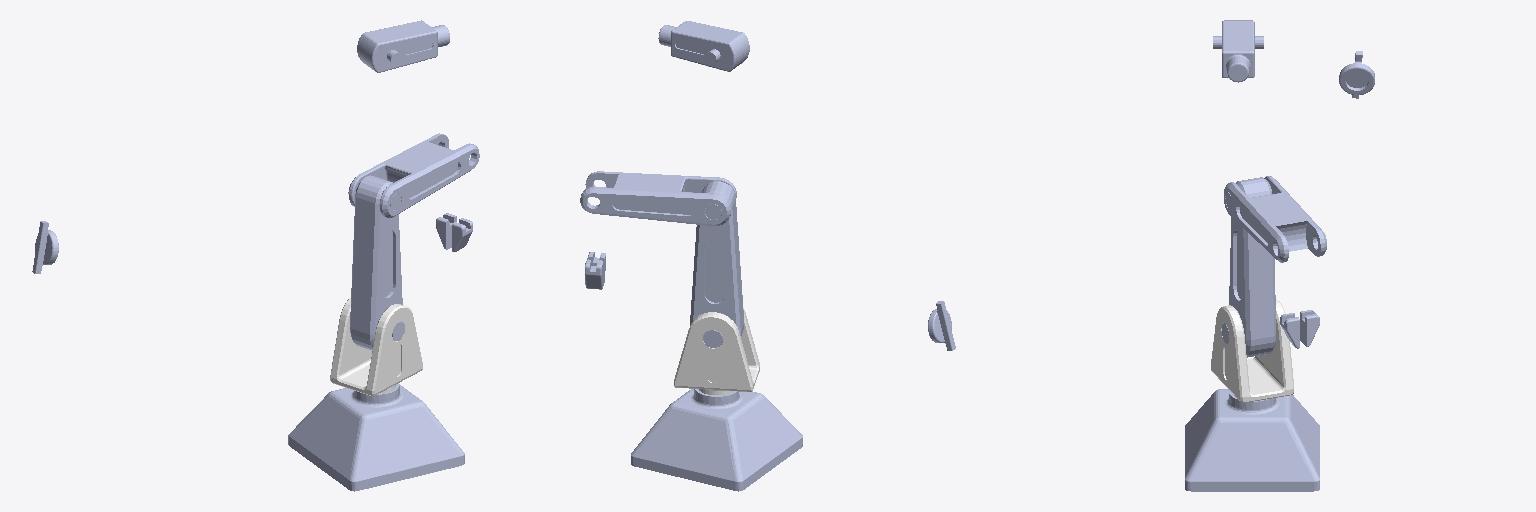
The robot description file, URDF, robot "robotic_arm":
<?xml version="1.0" encoding="utf-8"?>
<!-- This URDF was automatically created by SolidWorks to URDF Exporter! Originally created by [author] ([email redacted]) 
     Commit Version: 1.6.0-4-g7f85cfe  Build Version: 1.6.7995.38578
     For more information, please see http://wiki.ros.org/sw_urdf_exporter -->
<robot
  name="robotic_arm">
  <link
    name="base_link">
    <inertial>
      <origin
        xyz="-1.1102E-16 0 0.073876"
        rpy="0 0 0" />
      <mass
        value="17.147" />
      <inertia
        ixx="0.192"
        ixy="-4.9423E-10"
        ixz="-5.4429E-17"
        iyy="0.192"
        iyz="2.0103E-17"
        izz="0.29544" />
    </inertial>
    <visual>
      <origin
        xyz="0 0 0"
        rpy="0 0 0" />
      <geometry>
        <mesh
          filename="package://robotic_arm/meshes/base_link.STL" />
      </geometry>
      <material
        name="">
        <color
          rgba="0.79216 0.81961 0.93333 1" />
      </material>
    </visual>
    <collision>
      <origin
        xyz="0 0 0"
        rpy="0 0 0" />
      <geometry>
        <mesh
          filename="package://robotic_arm/meshes/base_link.STL" />
      </geometry>
    </collision>
  </link>
  <link
    name="link1">
    <inertial>
      <origin
        xyz="-5.65270052987898E-12 -0.094533892766691 7.88580312161002E-11"
        rpy="0 0 0" />
      <mass
        value="3.09046329461168" />
      <inertia
        ixx="0.0262980576865812"
        ixy="-4.70225488404403E-13"
        ixz="5.78426964247605E-05"
        iyy="0.0196320103484557"
        iyz="7.43867953096951E-12"
        izz="0.0253915865728046" />
    </inertial>
    <visual>
      <origin
        xyz="0 0 0"
        rpy="0 0 0" />
      <geometry>
        <mesh
          filename="package://robotic_arm/meshes/link1.STL" />
      </geometry>
      <material
        name="">
        <color
          rgba="1 1 1 1" />
      </material>
    </visual>
    <collision>
      <origin
        xyz="0 0 0"
        rpy="0 0 0" />
      <geometry>
        <mesh
          filename="package://robotic_arm/meshes/link1.STL" />
      </geometry>
    </collision>
  </link>
  <joint
    name="link1_revolute"
    type="revolute">
    <origin
      xyz="0 0 0.405"
      rpy="1.5707963267949 0 -2.76394490191366" />
    <parent
      link="base_link" />
    <child
      link="link1" />
    <axis
      xyz="0 1 0" />
    <limit
      lower="0"
      upper="3.142"
      effort="0"
      velocity="0" />
  </joint>
  <link
    name="link2">
    <inertial>
      <origin
        xyz="5.55111512312578E-16 0.167517809032193 -4.44089209850063E-16"
        rpy="0 0 0" />
      <mass
        value="5.58667658903741" />
      <inertia
        ixx="0.126335373950319"
        ixy="-2.25047998865248E-18"
        ixz="-0.000176634600159667"
        iyy="0.0114008236557685"
        iyz="-3.20896236448742E-17"
        izz="0.129103470333829" />
    </inertial>
    <visual>
      <origin
        xyz="0 0 0"
        rpy="0 0 0" />
      <geometry>
        <mesh
          filename="package://robotic_arm/meshes/link2.STL" />
      </geometry>
      <material
        name="">
        <color
          rgba="0.792156862745098 0.819607843137255 0.933333333333333 1" />
      </material>
    </visual>
    <collision>
      <origin
        xyz="0 0 0"
        rpy="0 0 0" />
      <geometry>
        <mesh
          filename="package://robotic_arm/meshes/link2.STL" />
      </geometry>
    </collision>
  </link>
  <joint
    name="link2_revolute"
    type="revolute">
    <origin
      xyz="0 0 0"
      rpy="0 0 0" />
    <parent
      link="link1" />
    <child
      link="link2" />
    <axis
      xyz="0.0634251661005122 0 -0.997986597257259" />
    <limit
      lower="-1.57"
      upper="1.57"
      effort="0"
      velocity="0" />
  </joint>
  <link
    name="link3">
    <inertial>
      <origin
        xyz="0.174395473981125 0.0384516706727349 0.0111232348782355"
        rpy="0 0 0" />
      <mass
        value="2.82619520285645" />
      <inertia
        ixx="0.00844864895794914"
        ixy="-0.00442959527109717"
        ixz="-0.00106465357356354"
        iyy="0.0275749332622264"
        iyz="-0.000278835988235278"
        izz="0.0250601393266879" />
    </inertial>
    <visual>
      <origin
        xyz="0 0 0"
        rpy="0 0 0" />
      <geometry>
        <mesh
          filename="package://robotic_arm/meshes/link3.STL" />
      </geometry>
      <material
        name="">
        <color
          rgba="0.792156862745098 0.819607843137255 0.933333333333333 1" />
      </material>
    </visual>
    <collision>
      <origin
        xyz="0 0 0"
        rpy="0 0 0" />
      <geometry>
        <mesh
          filename="package://robotic_arm/meshes/link3.STL" />
      </geometry>
    </collision>
  </link>
  <joint
    name="link3_revolute"
    type="revolute">
    <origin
      xyz="0 0.4 0"
      rpy="0 0 -0.0169636090218563" />
    <parent
      link="link2" />
    <child
      link="link3" />
    <axis
      xyz="0.0634160405786047 0.00107586811877688 -0.99798659725726" />
    <limit
      lower="0"
      upper="3.142"
      effort="0"
      velocity="0" />
  </joint>
  <link
    name="link4">
    <inertial>
      <origin
        xyz="-0.0118858896349915 -0.0506456824953578 -0.0697406192943522"
        rpy="0 0 0" />
      <mass
        value="1.80974470730009" />
      <inertia
        ixx="0.00932958069415946"
        ixy="0.0013494372798654"
        ixz="1.98874384850704E-05"
        iyy="0.00259829198759458"
        iyz="-0.000438489662118864"
        izz="0.00938432134538898" />
    </inertial>
    <visual>
      <origin
        xyz="0 0 0"
        rpy="0 0 0" />
      <geometry>
        <mesh
          filename="package://robotic_arm/meshes/link4.STL" />
      </geometry>
      <material
        name="">
        <color
          rgba="0.792156862745098 0.819607843137255 0.933333333333333 1" />
      </material>
    </visual>
    <collision>
      <origin
        xyz="0 0 0"
        rpy="0 0 0" />
      <geometry>
        <mesh
          filename="package://robotic_arm/meshes/link4.STL" />
      </geometry>
    </collision>
  </link>
  <joint
    name="link4_revolute"
    type="revolute">
    <origin
      xyz="0.33669051723305 0.075138823425112 0.0916168806467064"
      rpy="0 -0.37764775167464 0.0169636090218595" />
    <parent
      link="link3" />
    <child
      link="link4" />
    <axis
      xyz="-0.309036699346333 0 -0.95105011353615" />
    <limit
      lower="0"
      upper="-3.142"
      effort="0"
      velocity="0" />
  </joint>
  <link
    name="link5">
    <inertial>
      <origin
        xyz="-0.000635733956954793 -0.000212077273990863 0.02344654214119"
        rpy="0 0 0" />
      <mass
        value="0.190534243496226" />
      <inertia
        ixx="0.00021723232799195"
        ixy="3.2960030899886E-05"
        ixz="-1.99933248330466E-06"
        iyy="0.000129424517463001"
        iyz="-6.66965312608118E-07"
        izz="0.000301904828698227" />
    </inertial>
    <visual>
      <origin
        xyz="0 0 0"
        rpy="0 0 0" />
      <geometry>
        <mesh
          filename="package://robotic_arm/meshes/link5.STL" />
      </geometry>
      <material
        name="">
        <color
          rgba="0.792156862745098 0.819607843137255 0.933333333333333 1" />
      </material>
    </visual>
    <collision>
      <origin
        xyz="0 0 0"
        rpy="0 0 0" />
      <geometry>
        <mesh
          filename="package://robotic_arm/meshes/link5.STL" />
      </geometry>
    </collision>
  </link>
  <joint
    name="link5_revolute"
    type="revolute">
    <origin
      xyz="0.0217512505054844 -0.225430946671694 -0.0806707591650744"
      rpy="1.50080931610212 0.0154073486983046 -2.92525450953042" />
    <parent
      link="link4" />
    <child
      link="link5" />
    <axis
      xyz="-0.0271031214688434 -0.00904142340899337 0.99959175340205" />
    <limit
      lower="0"
      upper="3.142"
      effort="0"
      velocity="0" />
  </joint>
  <link
    name="link6_1">
    <inertial>
      <origin
        xyz="-0.521249947261589 1.14807668502178 0.0360029769263748"
        rpy="0 0 0" />
      <mass
        value="0.116532917792388" />
      <inertia
        ixx="4.06995329663622E-05"
        ixy="6.06060925640919E-06"
        ixz="-1.03759630985349E-05"
        iyy="7.005266679884E-05"
        iyz="3.14045201144727E-06"
        izz="8.45577273716619E-05" />
    </inertial>
    <visual>
      <origin
        xyz="0 0 0"
        rpy="0 0 0" />
      <geometry>
        <mesh
          filename="package://robotic_arm/meshes/link6_1.STL" />
      </geometry>
      <material
        name="">
        <color
          rgba="0.792156862745098 0.819607843137255 0.933333333333333 1" />
      </material>
    </visual>
    <collision>
      <origin
        xyz="0 0 0"
        rpy="0 0 0" />
      <geometry>
        <mesh
          filename="package://robotic_arm/meshes/link6_1.STL" />
      </geometry>
    </collision>
  </link>
  <joint
    name="link6_1_prismatic"
    type="prismatic">
    <origin
      xyz="0.91471 0.3654 0.76296"
      rpy="-1.5116 -1.3256 -2.8152" />
    <parent
      link="link5" />
    <child
      link="link6_1" />
    <axis
      xyz="-0.0010759 -0.063416 -0.99799" />
    <limit
      lower="0"
      upper="0.03"
      effort="0"
      velocity="0" />
  </joint>
  <link
    name="link6_2">
    <inertial>
      <origin
        xyz="-0.521359713734869 -0.341606602859672 0.0858175618375348"
        rpy="0 0 0" />
      <mass
        value="0.116532917792388" />
      <inertia
        ixx="4.0742646271086E-05"
        ixy="-7.32651075997336E-06"
        ixz="-9.6204923082993E-06"
        iyy="6.94944406123816E-05"
        iyz="-1.23562139946212E-06"
        izz="8.50728402533904E-05" />
    </inertial>
    <visual>
      <origin
        xyz="0 0 0"
        rpy="0 0 0" />
      <geometry>
        <mesh
          filename="package://robotic_arm/meshes/link6_2.STL" />
      </geometry>
      <material
        name="">
        <color
          rgba="0.792156862745098 0.819607843137255 0.933333333333333 1" />
      </material>
    </visual>
    <collision>
      <origin
        xyz="0 0 0"
        rpy="0 0 0" />
      <geometry>
        <mesh
          filename="package://robotic_arm/meshes/link6_2.STL" />
      </geometry>
    </collision>
  </link>
  <joint
    name="link6_2_prismatic"
    type="prismatic">
    <origin
      xyz="0.203547969834237 0.0536399403068246 0.569409308513323"
      rpy="1.62995489797154 -1.32563166552103 -2.81517539067378" />
    <parent
      link="link5" />
    <child
      link="link6_2" />
    <axis
      xyz="-0.00107586811877956 0.0634160405786034 0.997986597257259" />
    <limit
      lower="-0.03"
      upper="0"
      effort="0"
      velocity="0" />
  </joint>

  <transmission name="link1_trans">
      <type>transmission_interface/SimpleTransmission</type>
      <joint name="link1_revolute">
      <hardwareInterface>hardware_interface/PositionJointInterface</hardwareInterface>
      </joint>
      <actuator name="link1_motor">
      <hardwareInterface>hardware_interface/PositionJointInterface</hardwareInterface>
      <mechanicalReduction>1</mechanicalReduction>
      </actuator>
  </transmission>

  <transmission name="link2_trans">
      <type>transmission_interface/SimpleTransmission</type>
      <joint name="link2_revolute">
      <hardwareInterface>hardware_interface/PositionJointInterface</hardwareInterface>
      </joint>
      <actuator name="link2_motor">
      <hardwareInterface>hardware_interface/PositionJointInterface</hardwareInterface>
      <mechanicalReduction>1</mechanicalReduction>
      </actuator>
  </transmission>

  <transmission name="link3_trans">
      <type>transmission_interface/SimpleTransmission</type>
      <joint name="link3_revolute">
      <hardwareInterface>hardware_interface/PositionJointInterface</hardwareInterface>
      </joint>
      <actuator name="link3_motor">
      <hardwareInterface>hardware_interface/PositionJointInterface</hardwareInterface>
      <mechanicalReduction>1</mechanicalReduction>
      </actuator>
  </transmission>

  <transmission name="link4_trans">
      <type>transmission_interface/SimpleTransmission</type>
      <joint name="link4_revolute">
      <hardwareInterface>hardware_interface/PositionJointInterface</hardwareInterface>
      </joint>
      <actuator name="link4_motor">
      <hardwareInterface>hardware_interface/PositionJointInterface</hardwareInterface>
      <mechanicalReduction>1</mechanicalReduction>
      </actuator>
  </transmission>

  <transmission name="link5_trans">
      <type>transmission_interface/SimpleTransmission</type>
      <joint name="link5_revolute">
      <hardwareInterface>hardware_interface/PositionJointInterface</hardwareInterface>
      </joint>
      <actuator name="link5_motor">
      <hardwareInterface>hardware_interface/PositionJointInterface</hardwareInterface>
      <mechanicalReduction>1</mechanicalReduction>
      </actuator>
  </transmission>

  <transmission name="link6_1_trans">
      <type>transmission_interface/SimpleTransmission</type>
      <joint name="link6_1_prismatic">
      <hardwareInterface>hardware_interface/PositionJointInterface</hardwareInterface>
      </joint>
      <actuator name="link6_1_motor">
      <hardwareInterface>hardware_interface/PositionJointInterface</hardwareInterface>
      <mechanicalReduction>1</mechanicalReduction>
      </actuator>
  </transmission>

    <transmission name="link6_2_trans">
      <type>transmission_interface/SimpleTransmission</type>
      <joint name="link6_2_prismatic">
      <hardwareInterface>hardware_interface/PositionJointInterface</hardwareInterface>
      </joint>
      <actuator name="link6_2_motor">
      <hardwareInterface>hardware_interface/PositionJointInterface</hardwareInterface>
      <mechanicalReduction>1</mechanicalReduction>
      </actuator>
  </transmission>

  <gazebo>
      <plugin name="control" filename="libgazebo_ros_control.so">
              <robotNamespace>/robotic_arm</robotNamespace>
      </plugin>
  </gazebo>

  <gazebo reference="link1">
        <selfCollide>true</selfCollide>
  </gazebo>

  <gazebo reference="link2">
        <selfCollide>true</selfCollide>
  </gazebo> 

  <gazebo reference="link3">
        <selfCollide>true</selfCollide>
  </gazebo>

  <gazebo reference="link4">
        <selfCollide>true</selfCollide>
  </gazebo>

  <gazebo reference="link5">
        <selfCollide>true</selfCollide>
  </gazebo>

  <gazebo reference="link6_1">
        <selfCollide>true</selfCollide>
  </gazebo>

  <gazebo reference="link6_2">
        <selfCollide>true</selfCollide>
  </gazebo>
</robot>

--- Render facts (derived) ---
Views: 3 orthographic renders of the robot side by side, from view 1: azimuth 30°, elevation 25°; view 2: azimuth 150°, elevation 25°; view 3: azimuth 270°, elevation 25°.
Robot: robotic_arm — 8 links, 7 joints (5 revolute, 2 prismatic); root link base_link; default pose: every joint at zero.
Links seen in each view (by area): view 1: base_link, link2, link1, link3, link4, link5, link6_2; view 2: base_link, link3, link2, link1, link4, link5; view 3: base_link, link2, link1, link3, link4, link5, link6_1.
Link boxes in pixels (x1,y1,x2,y2): base_link: (288,383,464,491); link2: (350,175,404,350); link1: (330,297,422,396); link3: (348,133,479,217); link4: (357,20,449,72); link5: (32,221,58,273); link6_2: (452,218,472,251); base_link: (631,389,802,491); link3: (580,171,736,225); link2: (690,181,743,347); link1: (674,307,759,394); link4: (658,21,749,71); link5: (928,301,955,350); base_link: (1185,389,1319,491); link2: (1222,177,1275,357); link1: (1211,299,1293,402); link3: (1224,176,1326,262); link4: (1213,20,1263,82); link5: (1339,51,1374,98); link6_1: (1300,310,1319,346).
Bounding box of the posed robot: 1.34 × 0.524 × 1.32 m (x, y, z).
8 mesh visuals loaded from 8 distinct referenced files (8 binary STL).